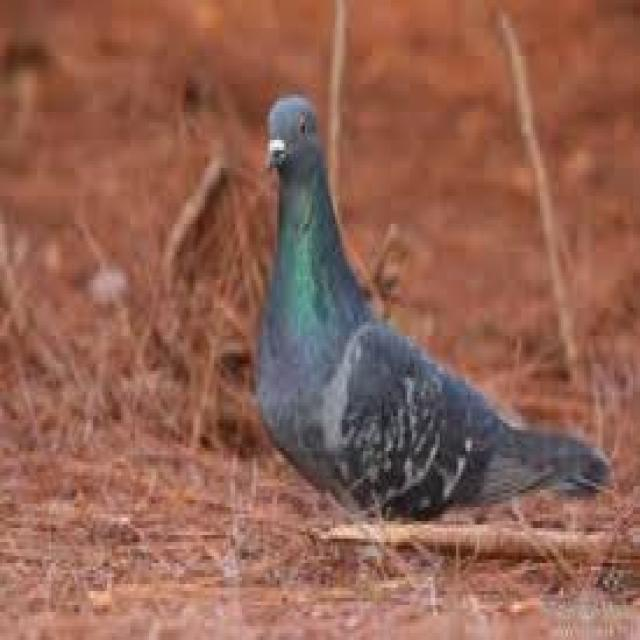pigeon: (244, 74, 620, 561)
